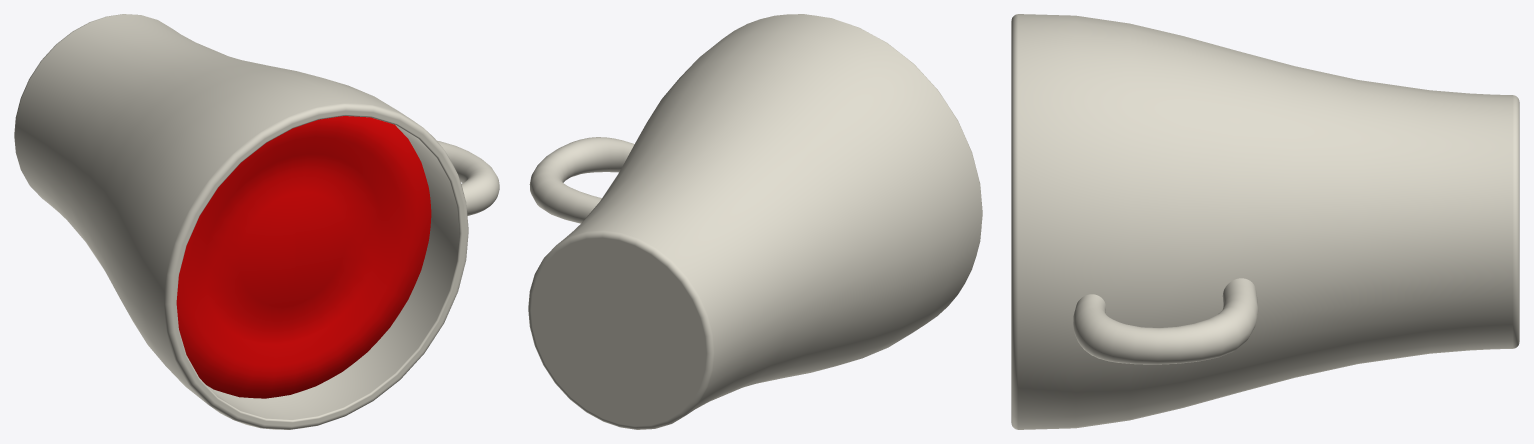
File: PERSP.glb
3 views of the same model, side by side, from view 1: azimuth 30°, elevation 25°; view 2: azimuth 150°, elevation 25°; view 3: azimuth 270°, elevation 25° (orthographic). The views are drawn at different scales.
Parts seen in each view (by area): view 1: i_Cup with coffee; view 2: i_Cup with coffee; view 3: i_Cup with coffee.
Part boxes in pixels (x1,y1,x2,y2): i_Cup with coffee: (14,14,499,429); i_Cup with coffee: (528,14,982,429); i_Cup with coffee: (1011,14,1519,429).
Bounding box in the file's own units: 0.1127 × 0.0901 × 0.11.
